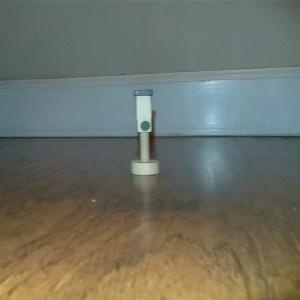traffic light green: (128, 86, 160, 178)
